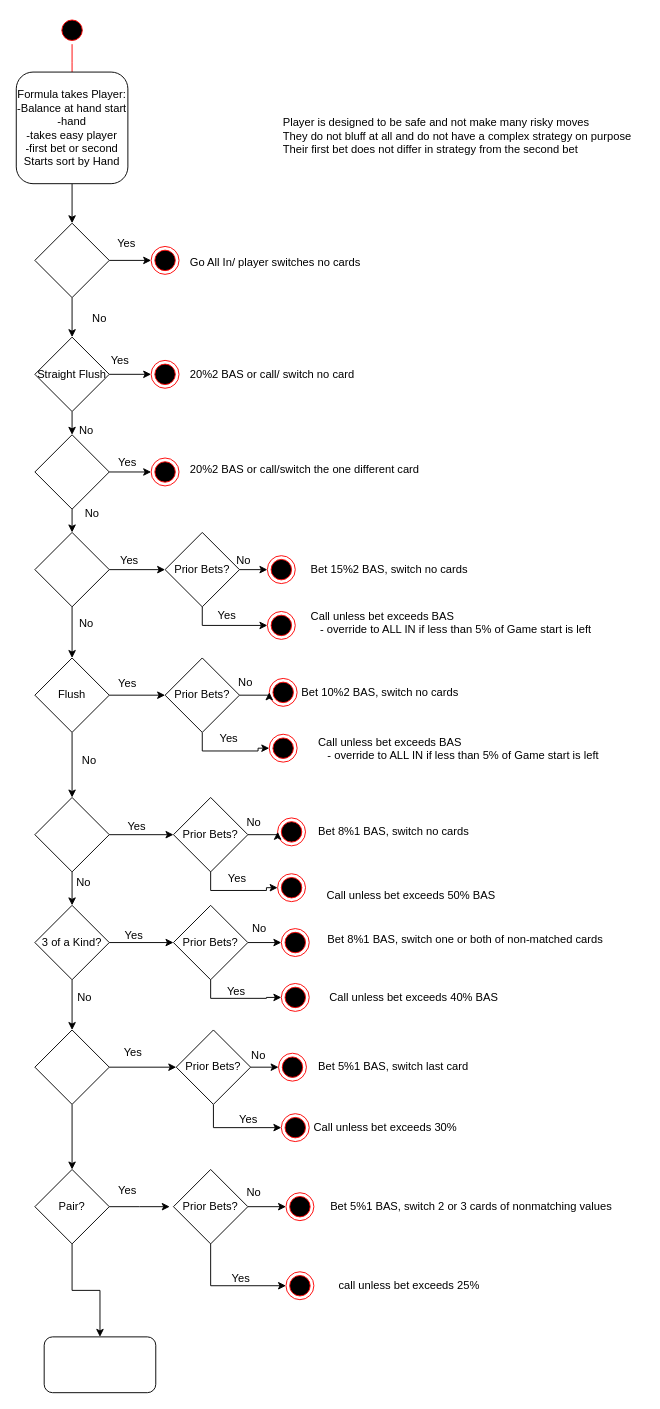
The diagram is 660 pixels wide and 1409 high, and some of its shapes have lost their labels. Here are the shapes that lost their labels. From the top down, the centre of each, then its label:
point 71,260: Royal Flush?
point 71,471: Four of a Kind?
point 71,569: Full House?
point 71,834: Straight?
point 71,1066: 2 pair?
point 99,1364: High card will be a fold for safety
